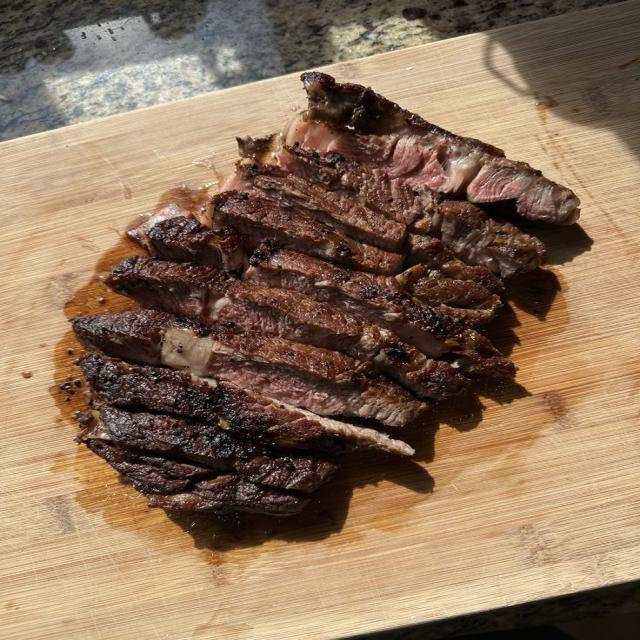beef steak: (286, 72, 579, 224), (73, 311, 427, 427), (245, 244, 514, 376), (78, 352, 414, 456), (188, 281, 469, 399), (98, 405, 333, 492), (211, 191, 403, 274), (226, 164, 406, 251), (278, 147, 434, 230), (430, 200, 545, 277), (130, 204, 245, 274), (105, 256, 230, 318), (396, 239, 503, 310), (88, 440, 215, 493), (149, 475, 308, 515), (111, 261, 185, 312), (237, 133, 282, 163)
